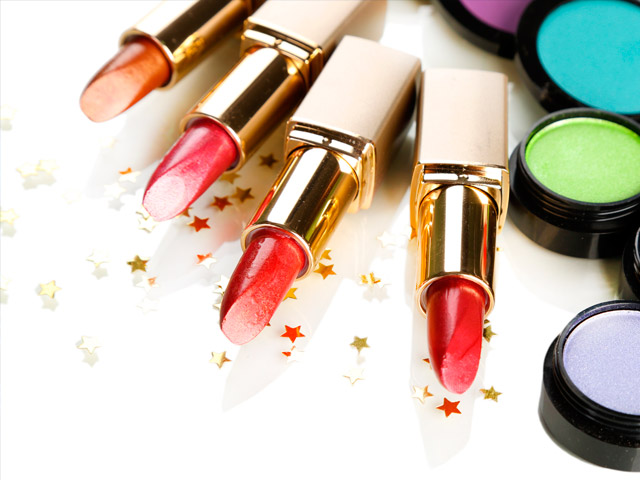Nonrec_Other: (56, 4, 634, 465)
